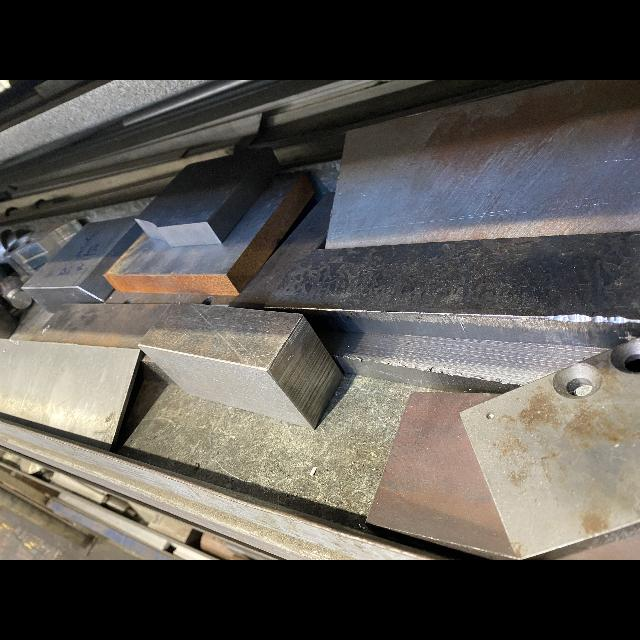Ferrous Metal: (326, 80, 640, 247), (264, 231, 640, 350), (460, 338, 640, 560), (138, 301, 344, 430), (103, 173, 316, 295), (365, 392, 516, 560), (314, 327, 612, 392), (0, 338, 142, 452), (134, 147, 282, 248), (21, 215, 143, 313), (31, 303, 172, 349)
